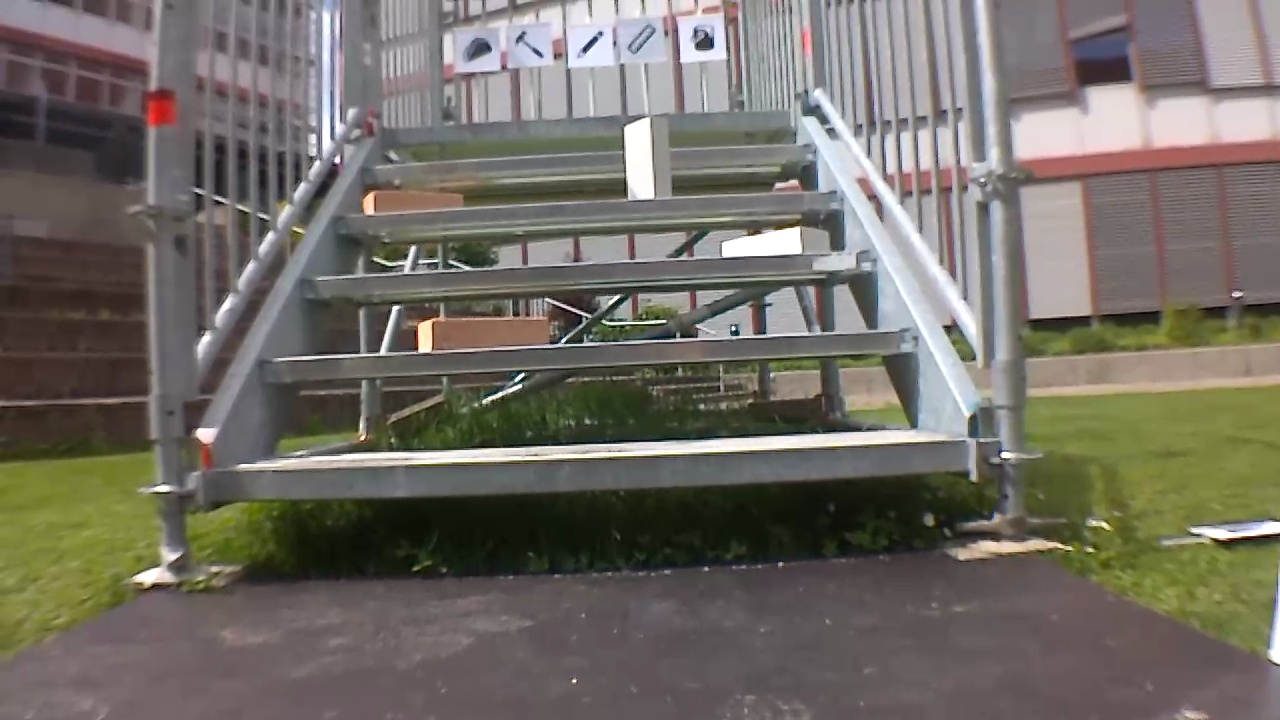brick: (417, 316, 548, 349), (624, 117, 670, 199), (722, 224, 827, 257), (363, 189, 459, 211)
bucket: (684, 20, 719, 53)
edge: (214, 436, 972, 499), (261, 331, 914, 374), (306, 251, 875, 292), (336, 190, 845, 226), (366, 144, 819, 180), (385, 110, 786, 138)
hammer: (508, 25, 551, 64)
pencil: (571, 25, 609, 60)
ruler: (622, 22, 661, 57)
stairs: (129, 3, 1059, 558)
steps: (206, 105, 985, 513)
taco: (454, 35, 496, 65)
